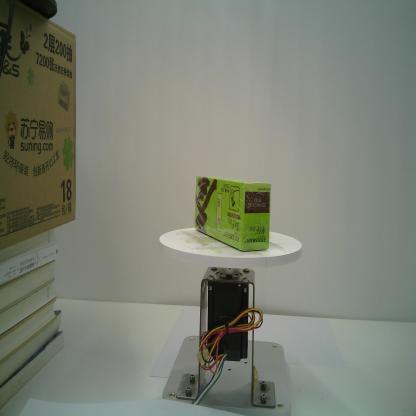Instant Drink: (194, 175, 272, 251)
